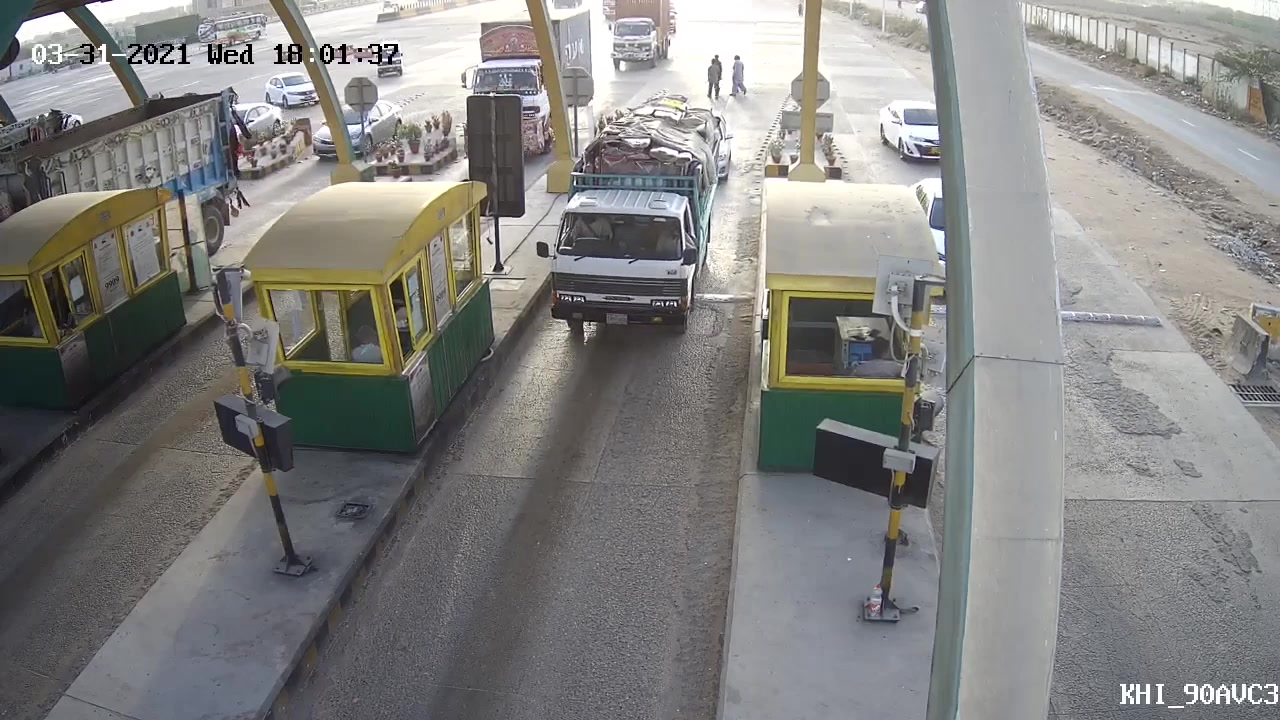F3: (548, 97, 728, 338)
